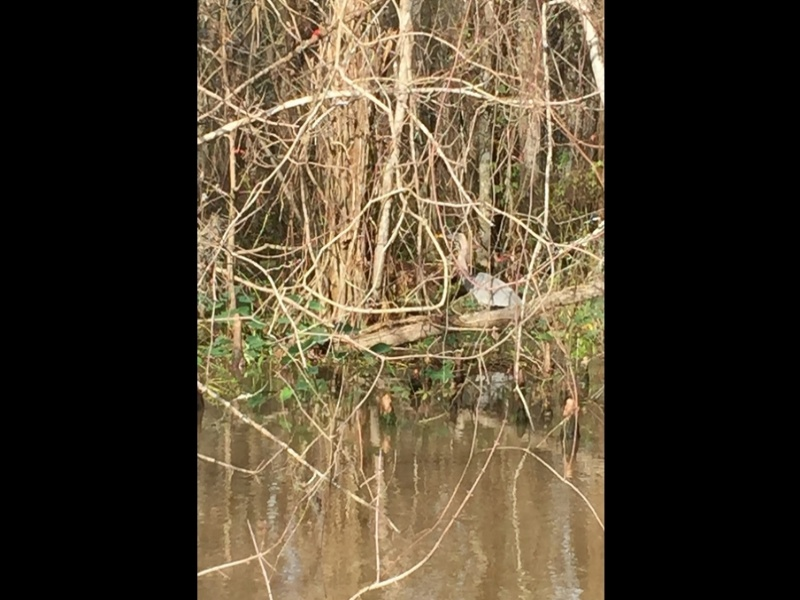heron: (450, 233, 522, 336)
